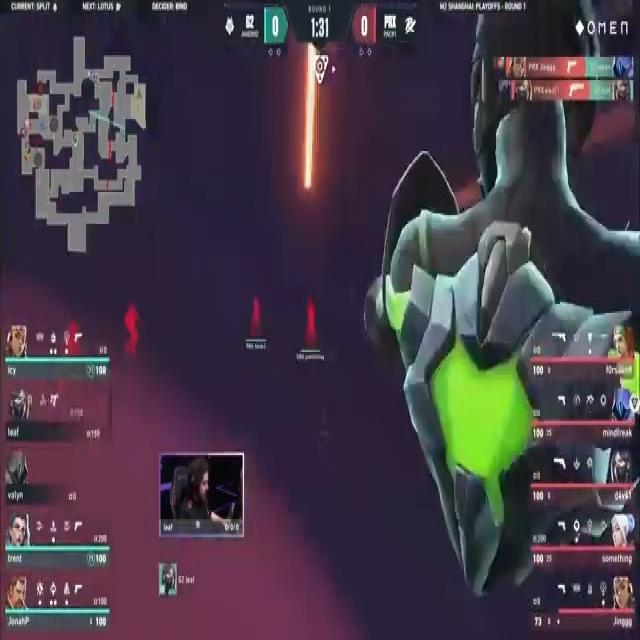enemy behind wall: (124, 300, 143, 362), (306, 297, 317, 348), (251, 297, 261, 338)
